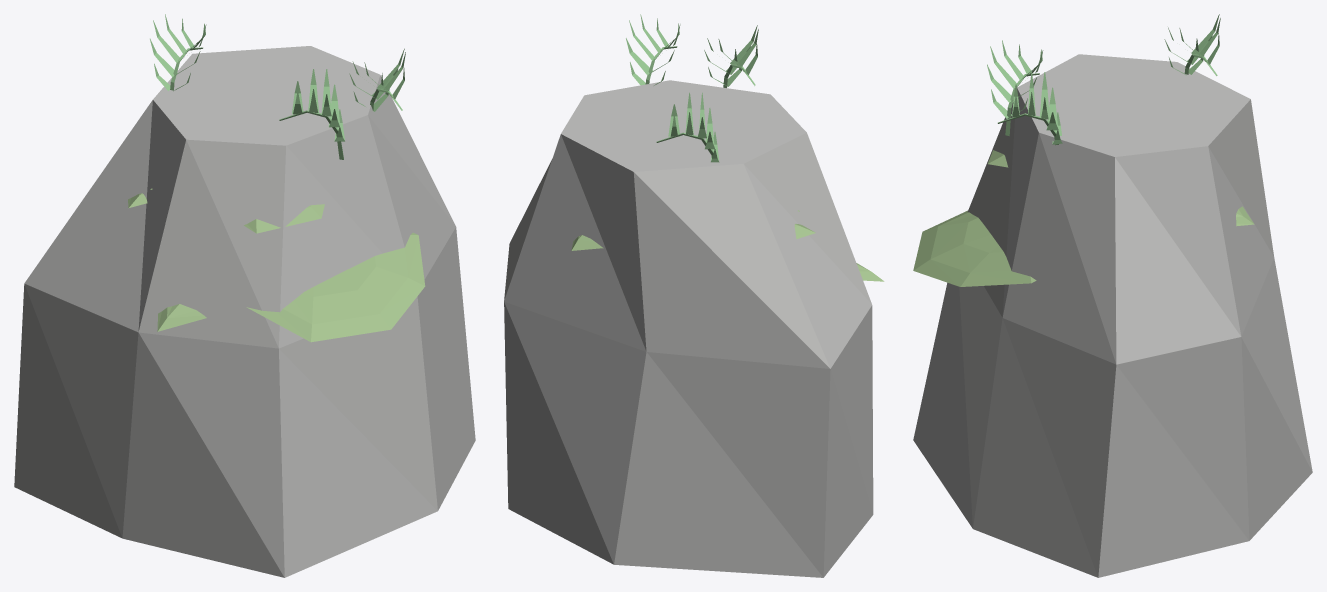
Rendered from cliff_block.glb.
3 views of the same model, side by side, from view 1: azimuth 30°, elevation 25°; view 2: azimuth 150°, elevation 25°; view 3: azimuth 270°, elevation 25° (orthographic). The views are drawn at different scales.
Visible parts, largest first — view 1: cliff-block; view 2: cliff-block; view 3: cliff-block.
Boxes of the visible parts, left/top/right/bottom form: cliff-block: left=14, top=14, right=475, bottom=577; cliff-block: left=504, top=14, right=884, bottom=577; cliff-block: left=913, top=14, right=1312, bottom=577.
Size of the model in its own units: 2.16 by 2.32 by 1.91.
